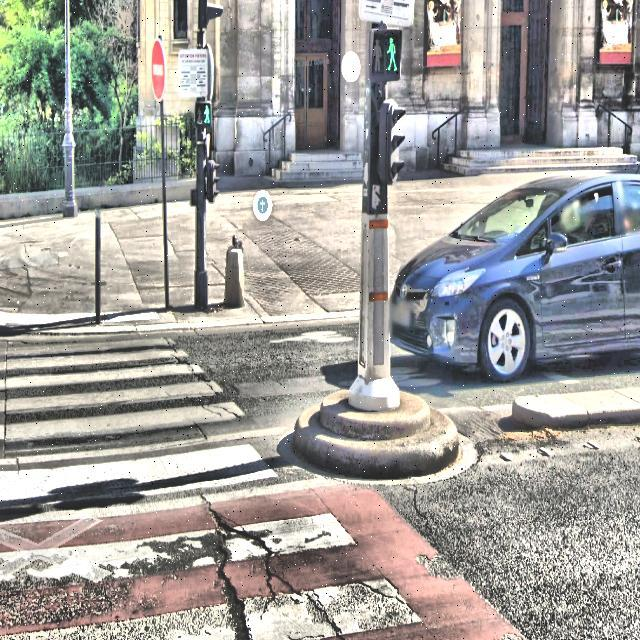green_light: (384, 30, 398, 75), (202, 102, 210, 124)
